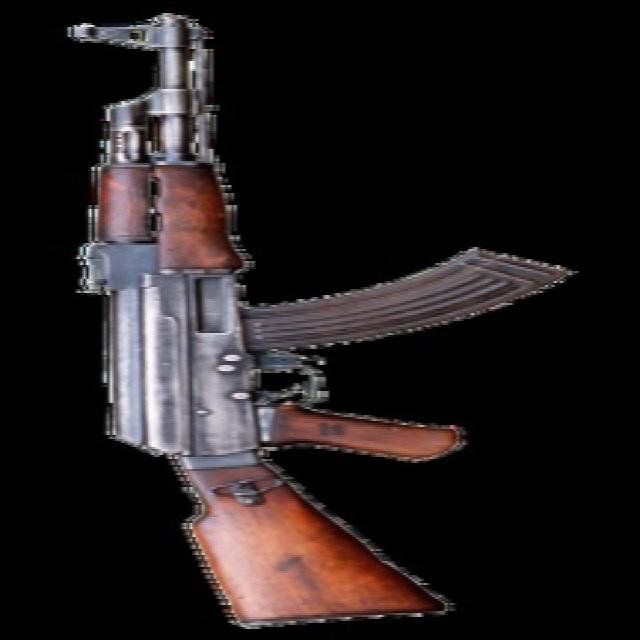rifle: (59, 9, 574, 621)
